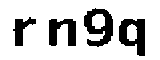9: (81, 5, 117, 54)
n: (47, 15, 77, 49)
q: (117, 16, 148, 60)
r: (7, 15, 40, 50)
